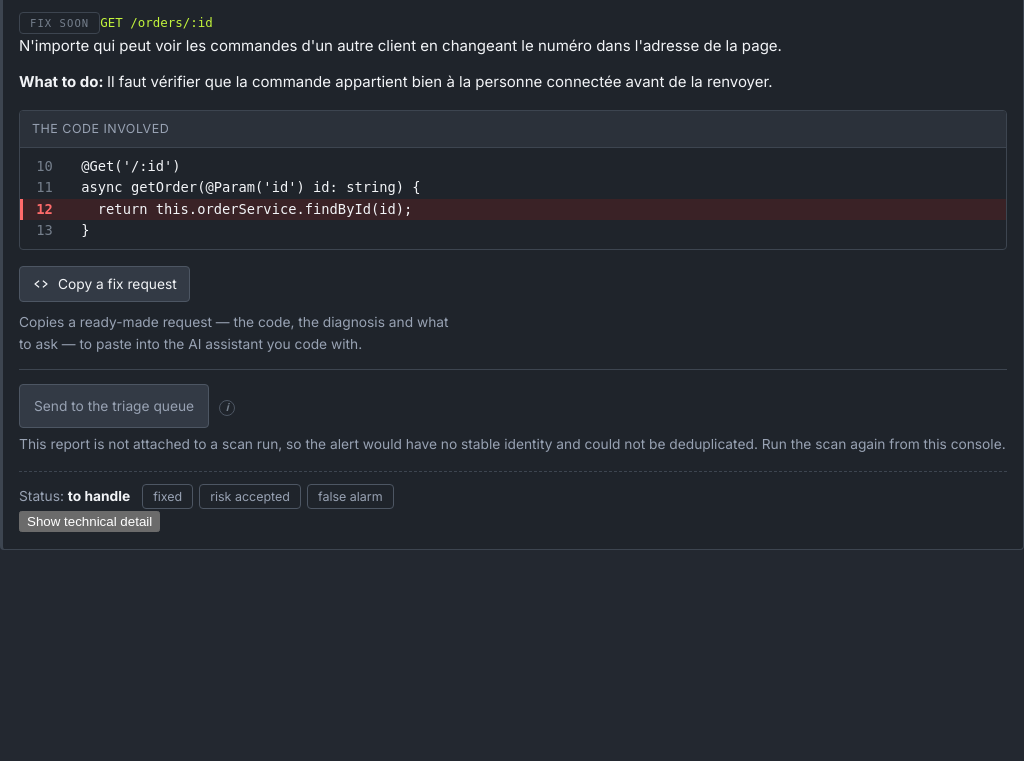
Test case: ReportView › n'affiche jamais un sigle technique tout seul
Expected: the text "IDOR" is not shown
Click the button "Show technical detail". click: (90, 521)
box: x1=19 y1=511 x2=160 y2=532
(page scrolled)
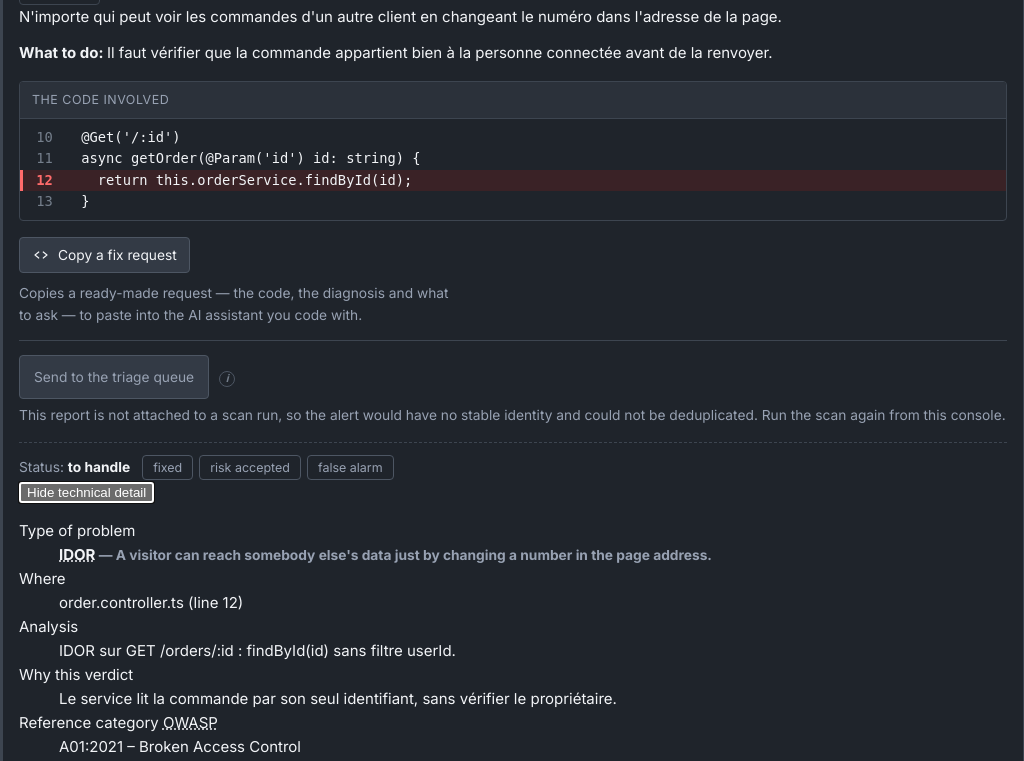
Expected: the text "IDOR" is shown, x1=59 y1=545 x2=96 y2=564
